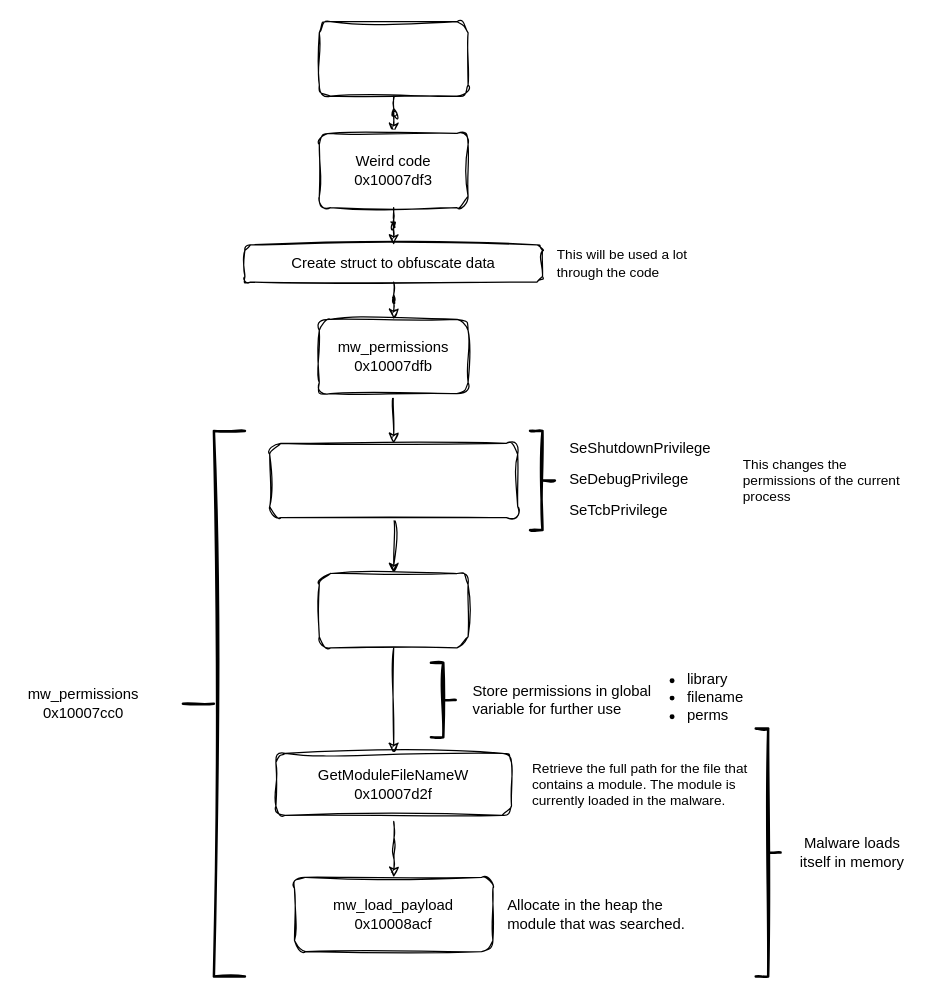
This 935x999 diagram has some shape labels left out. The box of each missing label's shape, as (x1, y1, x2, y2) in pixels:
3 calls to mw_chg_proc_perms 0x100081ba: (268, 442, 518, 518)
Main: (318, 20, 468, 96)
mw_junk_code 0x10008677: (318, 572, 468, 648)
